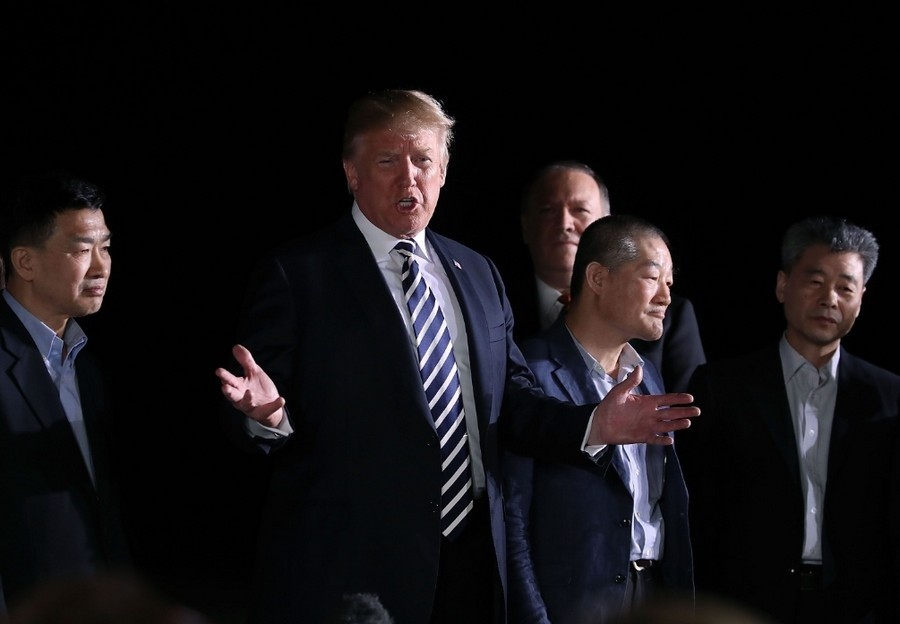face_no_mask: (344, 90, 453, 235), (6, 175, 112, 316), (571, 216, 672, 343), (769, 225, 876, 344), (529, 164, 609, 273)
